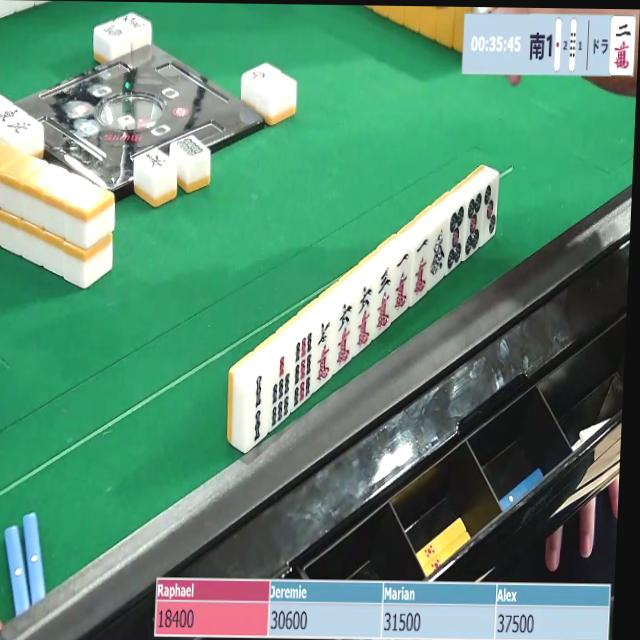1C: (392, 250, 417, 314), (412, 232, 431, 305)
2B: (246, 372, 271, 449)
2C: (610, 17, 636, 73)
3C: (372, 266, 395, 332)
3D: (480, 179, 499, 240)
5D: (445, 208, 466, 273), (463, 193, 483, 258)
6C: (331, 303, 361, 370), (350, 285, 380, 351)
7B: (270, 351, 293, 427)
7C: (313, 317, 340, 386)
9B: (290, 331, 318, 412)
GD: (429, 225, 447, 284)
